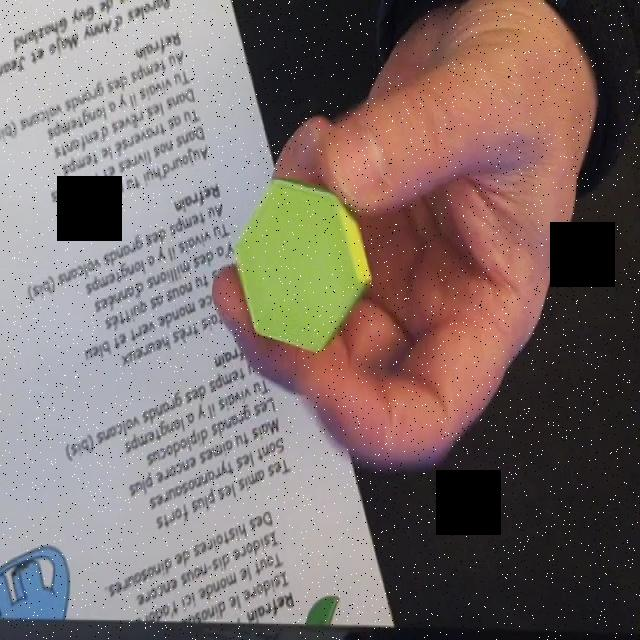hexagon: (233, 180, 371, 355)
